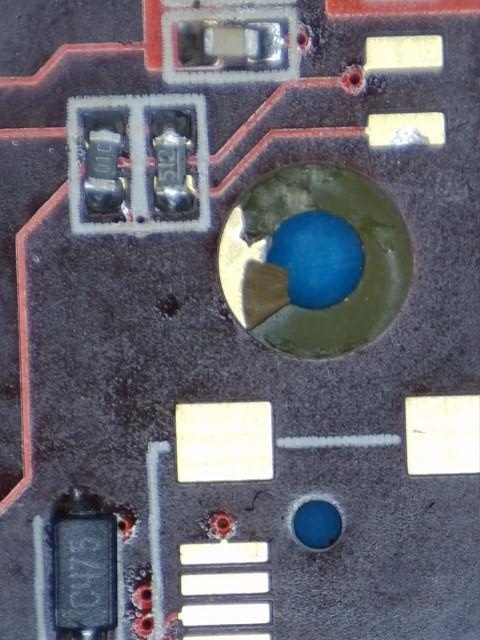pcb_defect: (219, 162, 412, 358)
